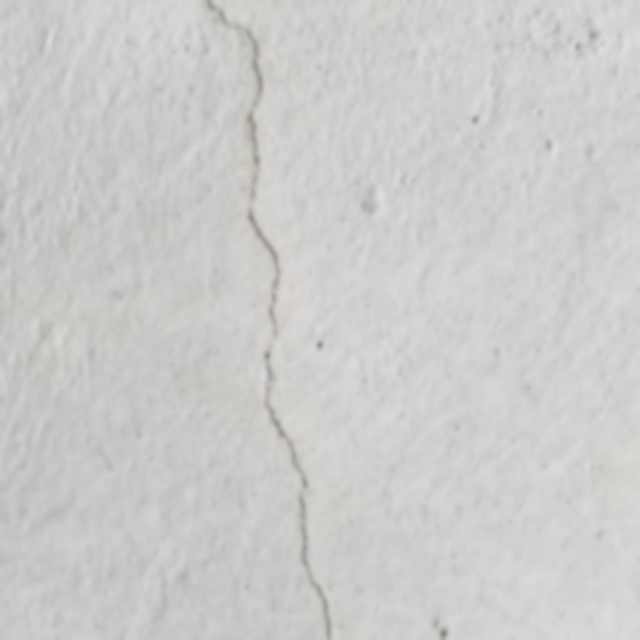SurfaceCrack: (194, 1, 359, 640)
